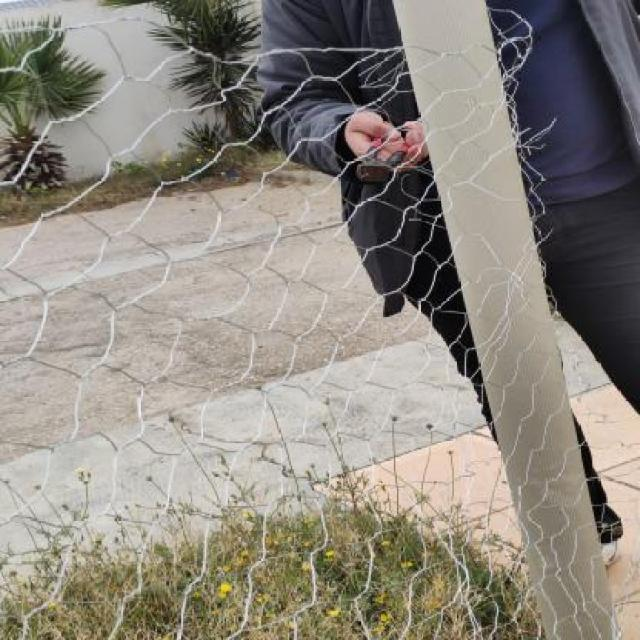fence line: (519, 13, 639, 482), (168, 17, 480, 48)
